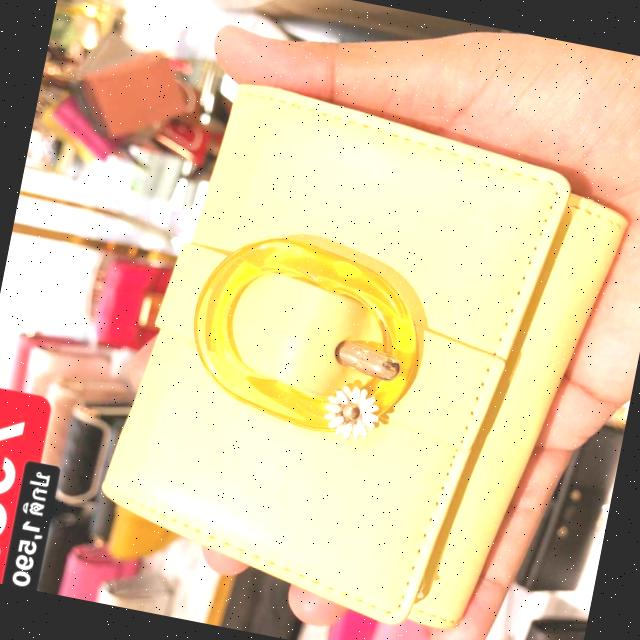handbag: (72, 42, 640, 640)
